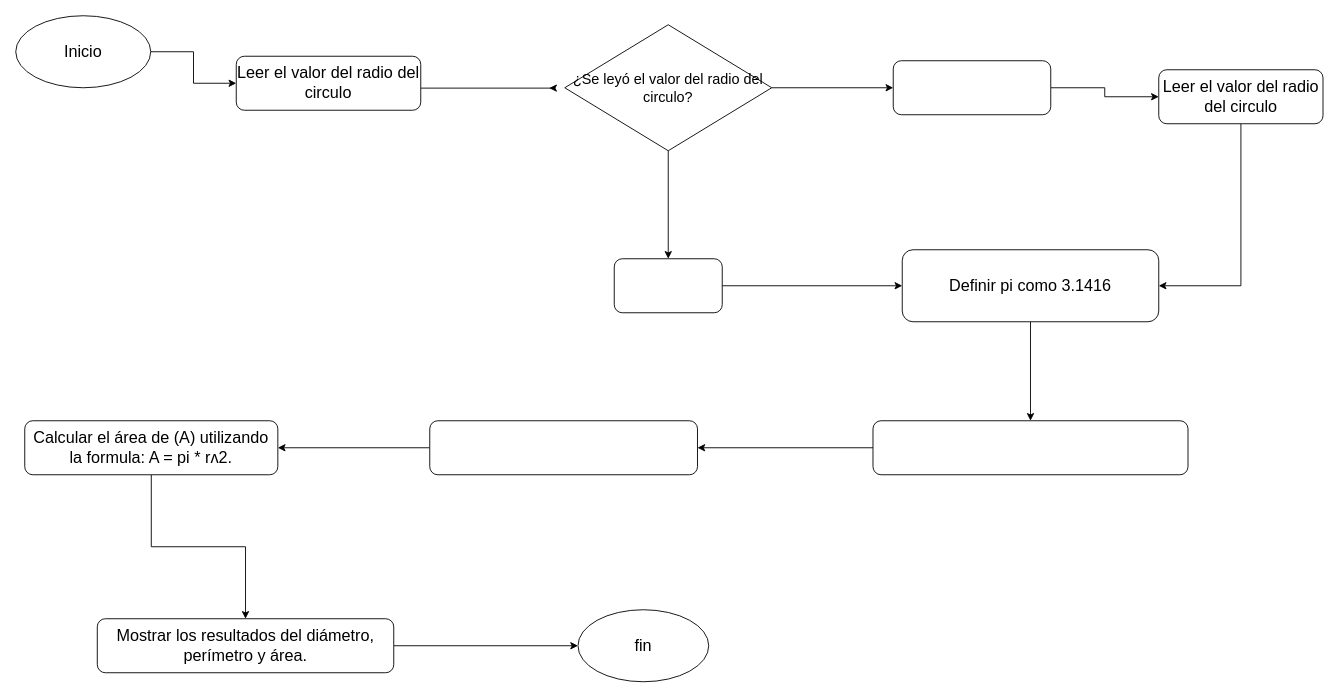
This 1339x698 diagram has some shape labels left out. Here are the shapes that lost their labels. From the top down, the centre of each, then its label:
At point (971, 87): "no".
At point (667, 285): "si".
At point (563, 447): "Calcular el perímetro (P) utilizando la formula: P = 2 * pi * r.".
At point (1030, 447): "Calcular el diámetro (d) utilizando la formula d = 2 * pi * r.".
